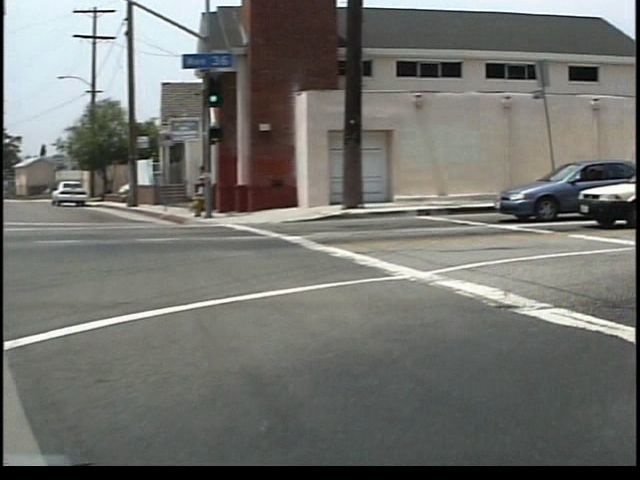person: (202, 165, 224, 216)
